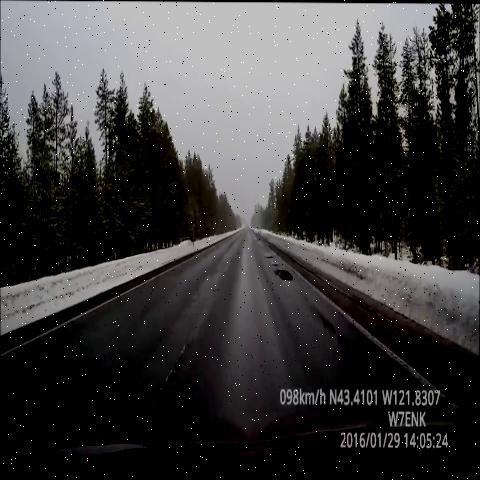pothole: (272, 260, 296, 289), (260, 250, 275, 263), (267, 259, 280, 269)
